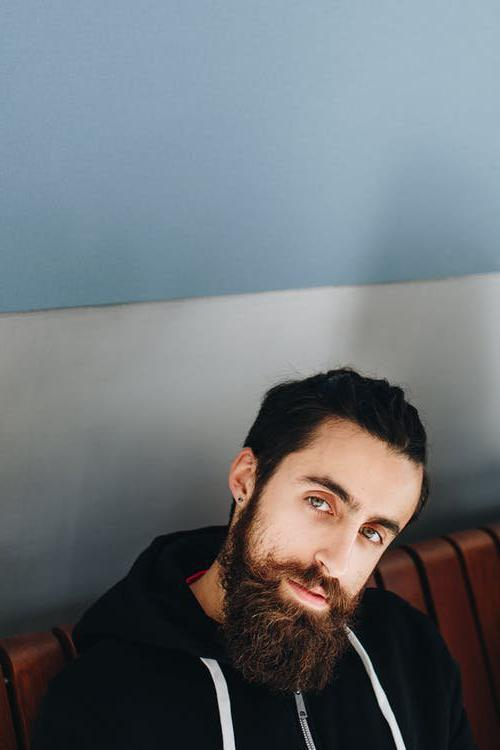Sober: (276, 422, 395, 622)
